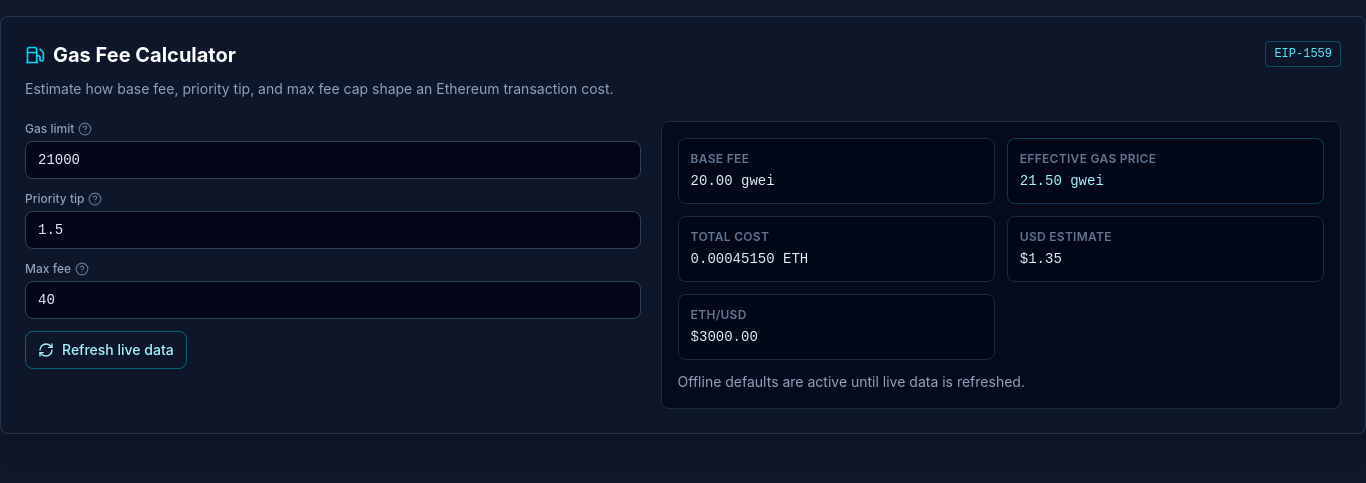
Scenario: GasFeeCalculator › degrades gracefully when the ETH price source is rate limited
Click the button "Refresh live data" at [106, 350], box [25, 331, 187, 369]
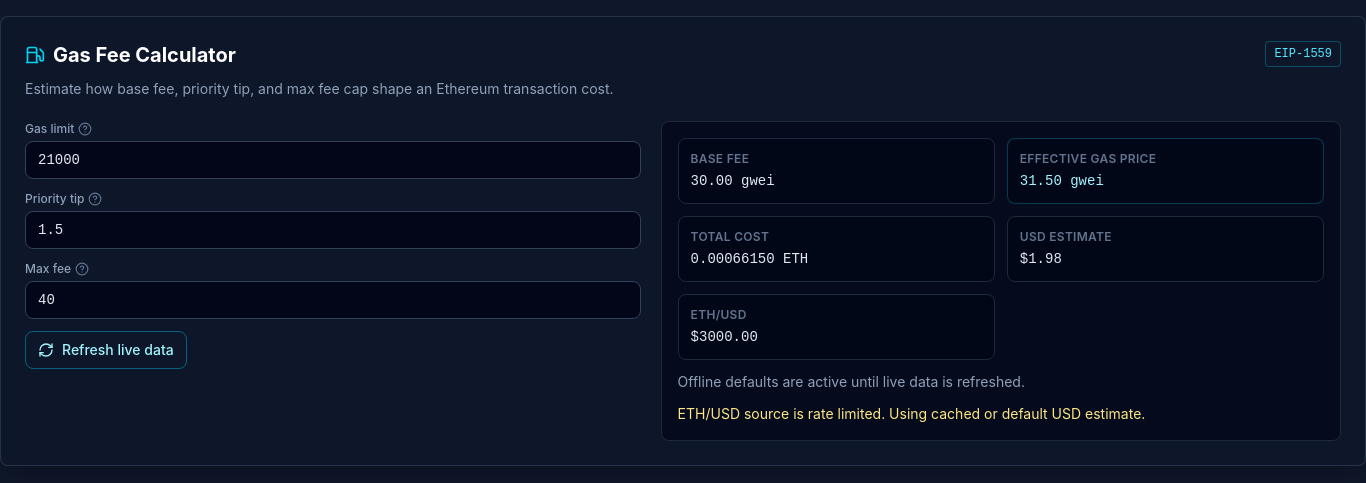
Expected: the text "$3000.00" is shown, [691, 329, 758, 345]
Result: the text "30.00 gwei" is shown at [691, 173, 775, 189]
Result: the text "ETH/USD source is rate limited. Using cached or default USD estimate." is shown at [678, 405, 1145, 422]
